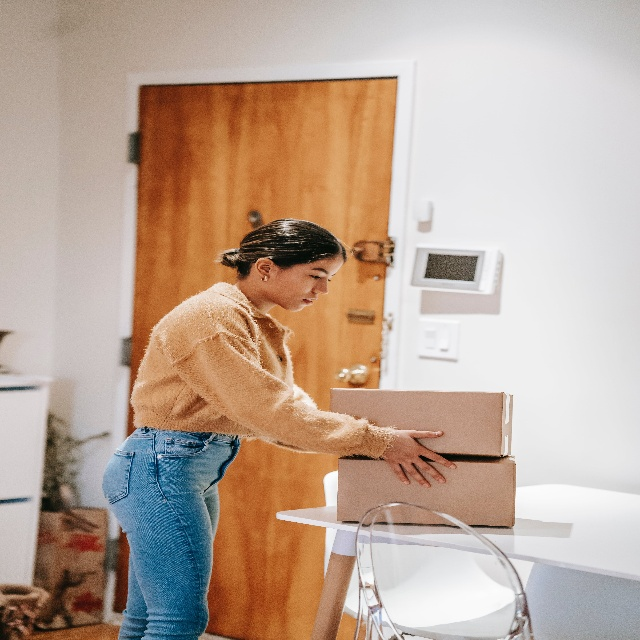Sin_guantes: (382, 429, 456, 489)
